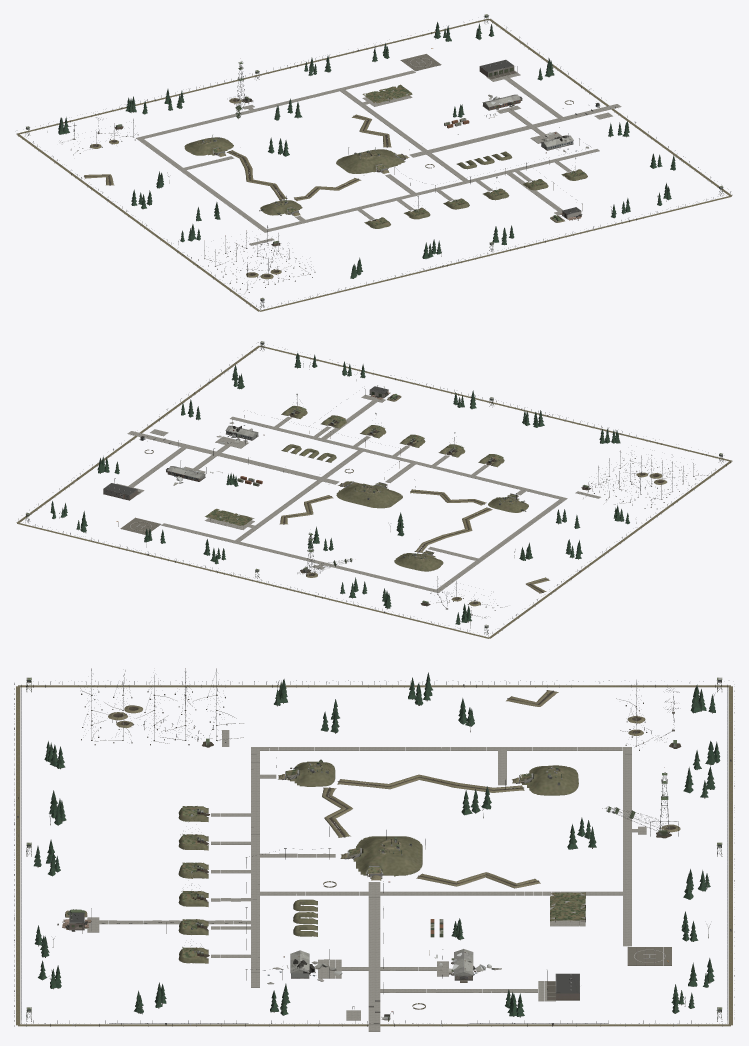
The model's file is site_cp_w.glb.
3 views of the same model, one above another, from view 1: azimuth 30°, elevation 25°; view 2: azimuth 150°, elevation 25°; view 3: azimuth 270°, elevation 25° (orthographic). The views are drawn at different scales.
Parts seen in each view (by area): view 1: deco|tile_conc, deco|F_A, deco_trees|F_A, b_bunker1|F_A, b_bunker2|F_A, b_comms|F_A; view 2: deco|tile_conc, deco|F_A, deco_trees|F_A, b_bunker1|F_A, b_bunker2|F_A, b_comms|F_A; view 3: deco|F_A, deco|tile_conc, deco_trees|F_A, b_bunker1|F_A, b_bunker2|F_A, b_comms|F_A, b_antenna_ruin|F_B, b_antenna|F_A.
Boxes of the visible parts, box(x1,y1,x2,y2) form: deco|tile_conc: box(136, 70, 621, 245); deco|F_A: box(16, 14, 732, 311); deco_trees|F_A: box(47, 22, 675, 278); b_bunker1|F_A: box(336, 147, 407, 173); b_bunker2|F_A: box(184, 135, 233, 156); b_comms|F_A: box(259, 196, 302, 215); deco|tile_conc: box(116, 394, 600, 592); deco|F_A: box(16, 341, 732, 638); deco_trees|F_A: box(50, 353, 636, 628); b_bunker1|F_A: box(336, 481, 402, 508); b_bunker2|F_A: box(394, 550, 443, 571); b_comms|F_A: box(488, 493, 528, 512); deco|F_A: box(14, 677, 734, 1026); deco|tile_conc: box(87, 730, 646, 1031); deco_trees|F_A: box(33, 672, 720, 1017); b_bunker1|F_A: box(343, 830, 422, 878); b_bunker2|F_A: box(515, 765, 578, 795); b_comms|F_A: box(281, 759, 335, 786); b_antenna_ruin|F_B: box(78, 670, 243, 747); b_antenna|F_A: box(81, 668, 227, 746).
Size of the model in its own units: 552 by 47.74 by 485.
Materials: 53 (38 with a texture image).
